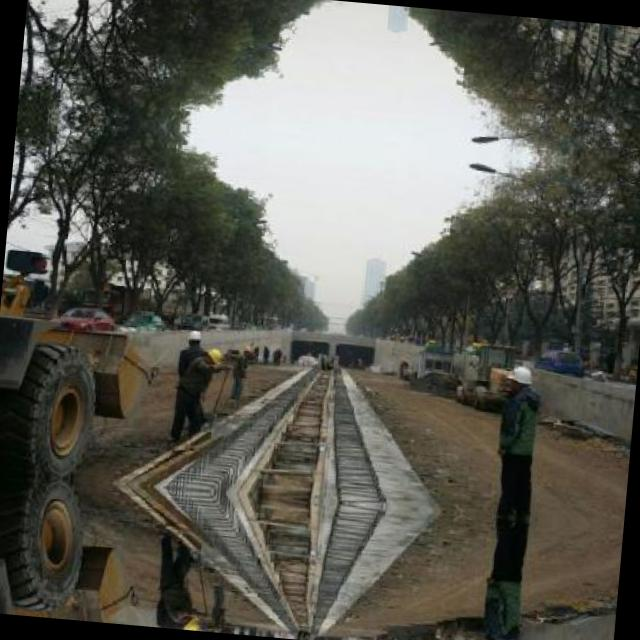helmet: (506, 360, 534, 395), (201, 341, 224, 364), (185, 324, 202, 349), (177, 614, 201, 630), (482, 635, 511, 640)
